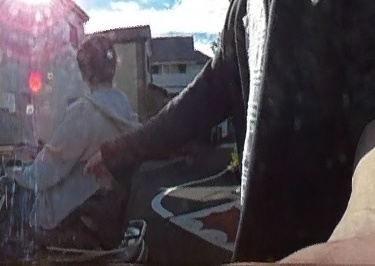person: (6, 27, 135, 241)
